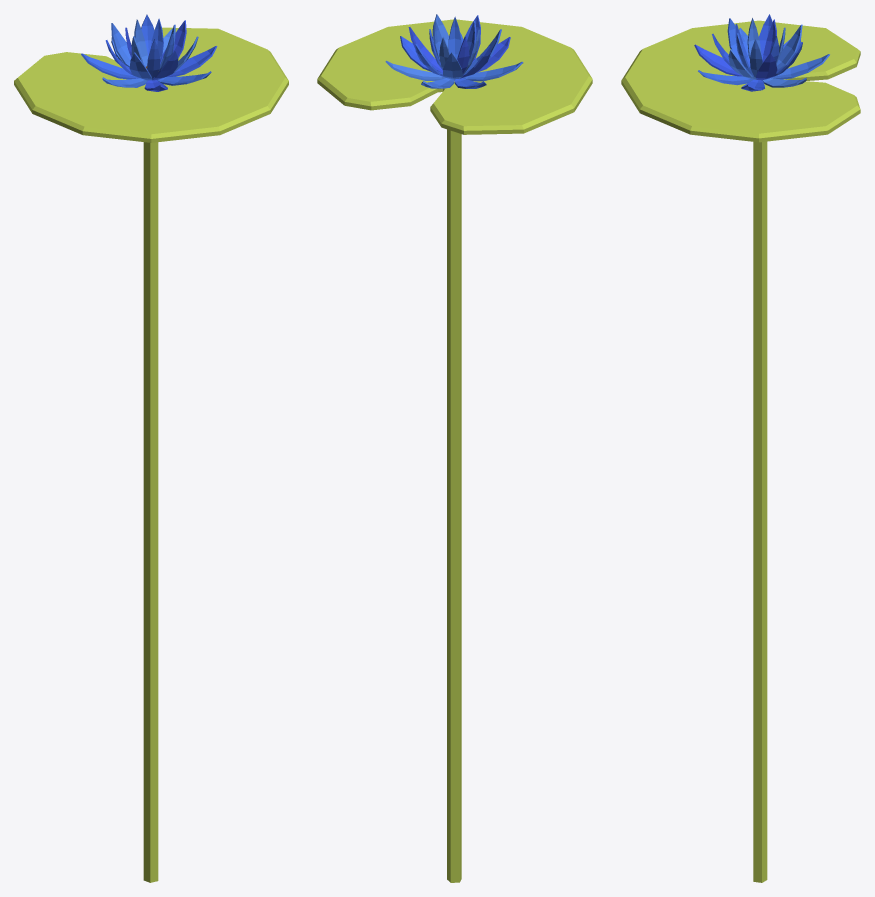
File: NHP_LilyPad_LP_A2_02.fbx
3 views of the same model, side by side, from view 1: azimuth 30°, elevation 25°; view 2: azimuth 150°, elevation 25°; view 3: azimuth 270°, elevation 25° (orthographic).
Parts seen in each view (by area): view 1: NHP_LilyPad_LP_A2_02_LOD0; view 2: NHP_LilyPad_LP_A2_02_LOD0; view 3: NHP_LilyPad_LP_A2_02_LOD0.
Boxes of the visible parts, left/top/right/bottom form: NHP_LilyPad_LP_A2_02_LOD0: left=14, top=14, right=288, bottom=882; NHP_LilyPad_LP_A2_02_LOD0: left=317, top=14, right=592, bottom=882; NHP_LilyPad_LP_A2_02_LOD0: left=621, top=14, right=860, bottom=882.
Size of what is drawn, in the model's own units: 0.6254 by 2.14 by 0.5433.
